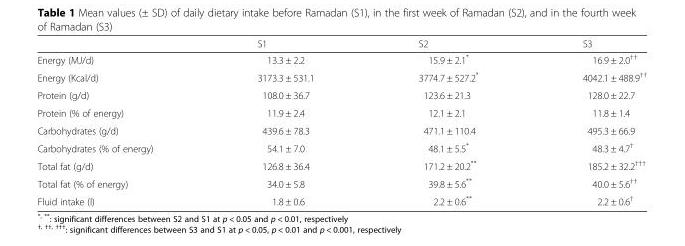table: (36, 37, 646, 206)
table column: (36, 37, 204, 206), (365, 37, 529, 206), (204, 37, 365, 206), (529, 37, 646, 206)
table column header: (36, 37, 646, 50)
table row: (36, 67, 646, 86), (36, 103, 646, 121), (36, 138, 646, 156), (36, 173, 646, 191), (36, 50, 646, 67), (36, 86, 646, 103), (36, 121, 646, 138), (36, 156, 646, 173), (36, 191, 646, 206), (36, 37, 646, 50)
